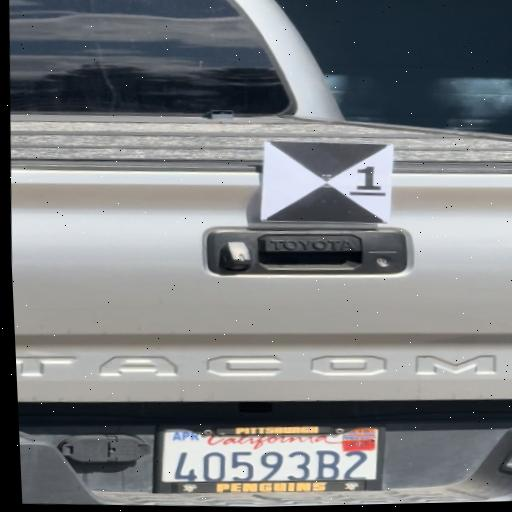target1: (263, 138, 388, 224)
